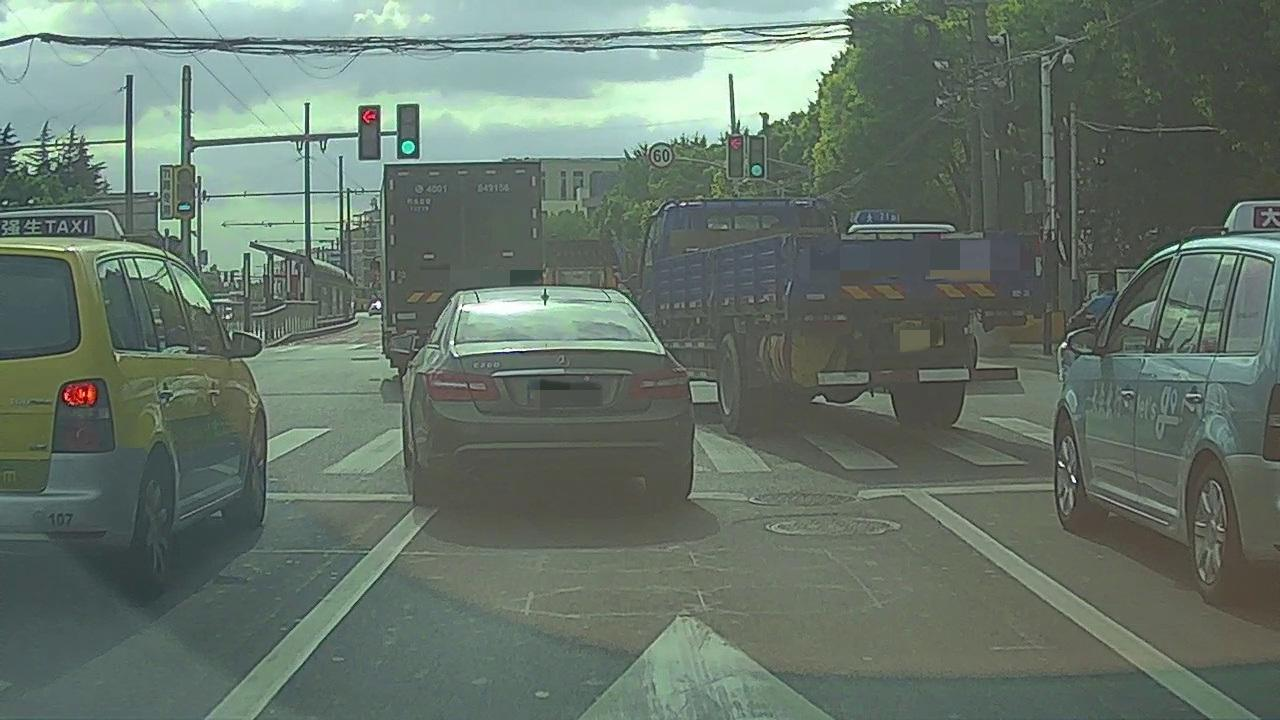traffic_light: (358, 102, 381, 160), (397, 104, 419, 159), (728, 136, 743, 176), (750, 136, 765, 176)
